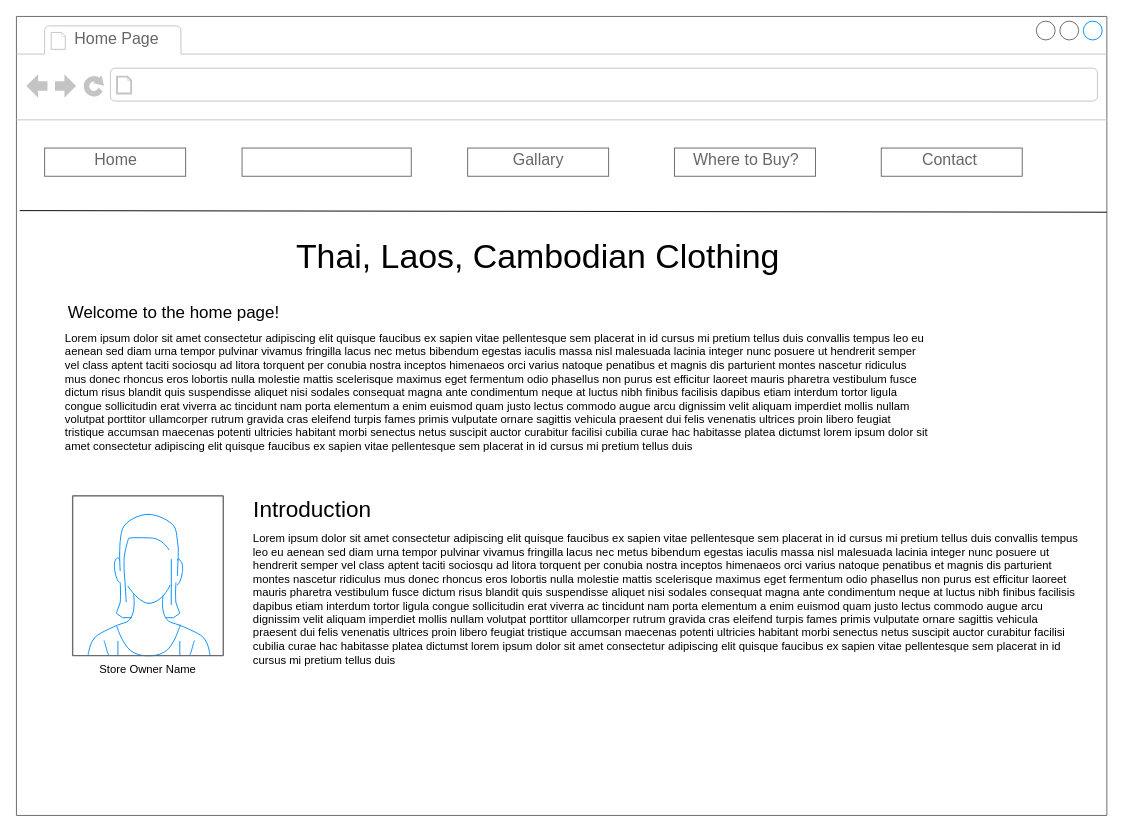
Image size: 1124x832. Some labels were removed from this diagram. Here are the shapes that lost their labels. From the top down, the centre of each, then its label:
(256,84): https://www.TLCClothing.com
(326,161): What is TLC Clothing?
